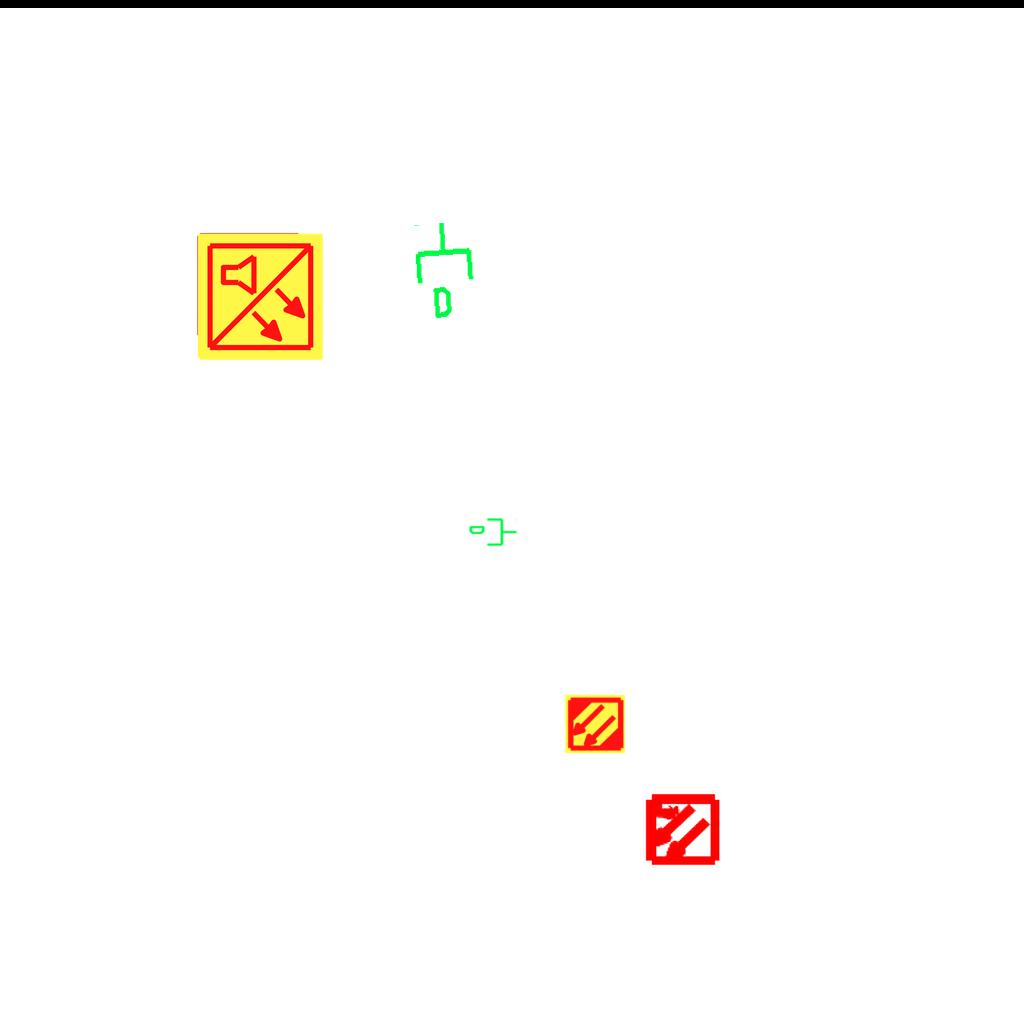ASR_Ansaugrauchmelder: (564, 693, 626, 755)
Datenanschluss_einfach: (408, 217, 485, 323), (468, 516, 518, 550)
OKW_Multisensormelder_(Kombination_optischer_Rauch-Kahlenmonoxid_Waerme-Melder): (194, 231, 326, 363)
OT_Multisensormelder_(Kombination_RMO_WMD): (624, 773, 737, 886)
